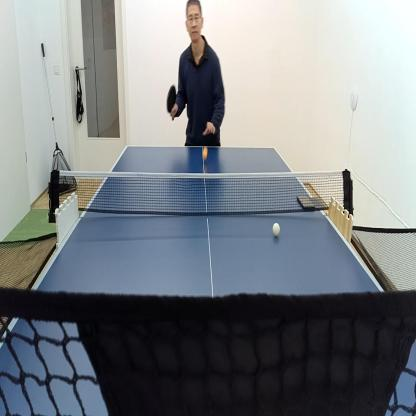Ball: (272, 221, 281, 239), (202, 145, 208, 161)
